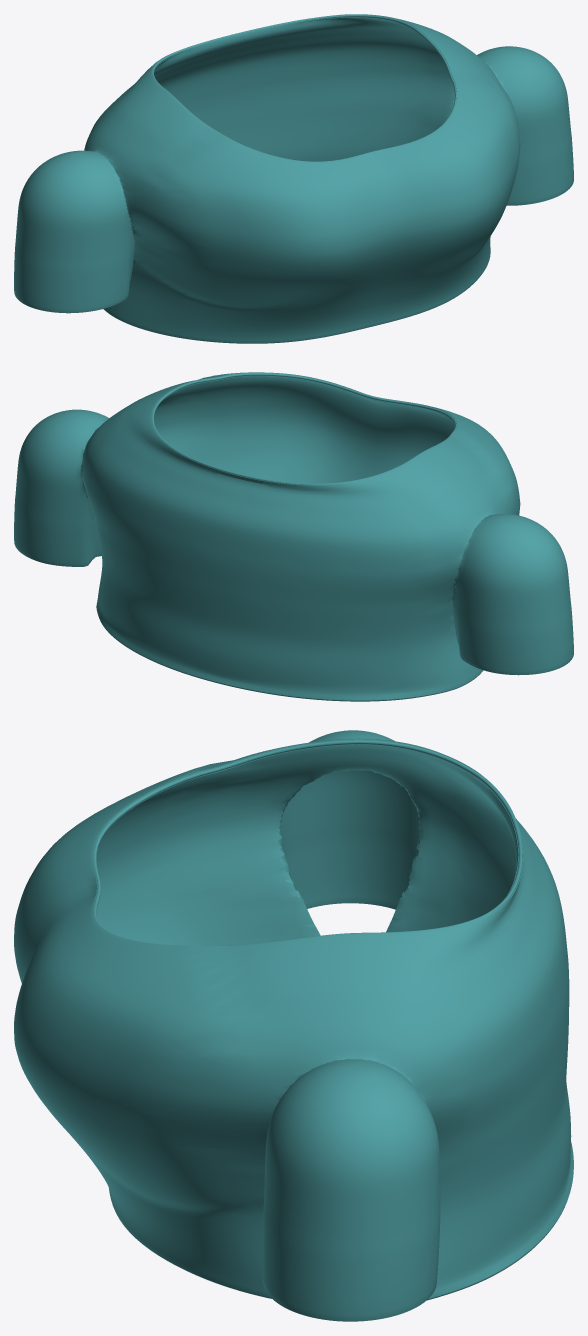
File: Feminine-tshirt-top.glb
3 views of the same model, one above another, from view 1: azimuth 30°, elevation 25°; view 2: azimuth 150°, elevation 25°; view 3: azimuth 270°, elevation 25° (orthographic). The views are drawn at different scales.
Parts seen in each view (by area): view 1: Clothing / continuous T-shirt181, Neckline / seated181 export; view 2: Clothing / continuous T-shirt181, Neckline / seated181 export, Shirt / seated hem export; view 3: Clothing / continuous T-shirt181, Neckline / seated181 export.
Boxes of the visible parts, <box> form: Clothing / continuous T-shirt181: <box>14,14,573,343</box>; Neckline / seated181 export: <box>152,14,456,161</box>; Clothing / continuous T-shirt181: <box>14,372,573,699</box>; Neckline / seated181 export: <box>152,373,456,484</box>; Shirt / seated hem export: <box>99,618,482,701</box>; Clothing / continuous T-shirt181: <box>14,730,573,1321</box>; Neckline / seated181 export: <box>93,740,522,946</box>.
Size of the model in its own units: 0.923 by 0.3394 by 0.5192.
